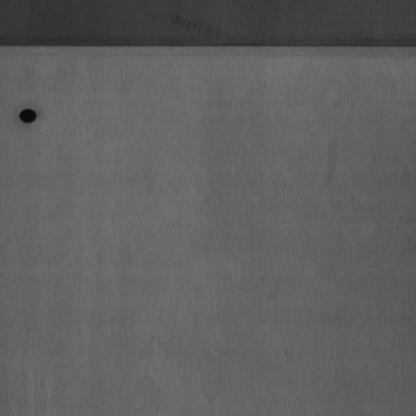punching_hole: (16, 102, 42, 127)
welding_line: (2, 35, 416, 66)
